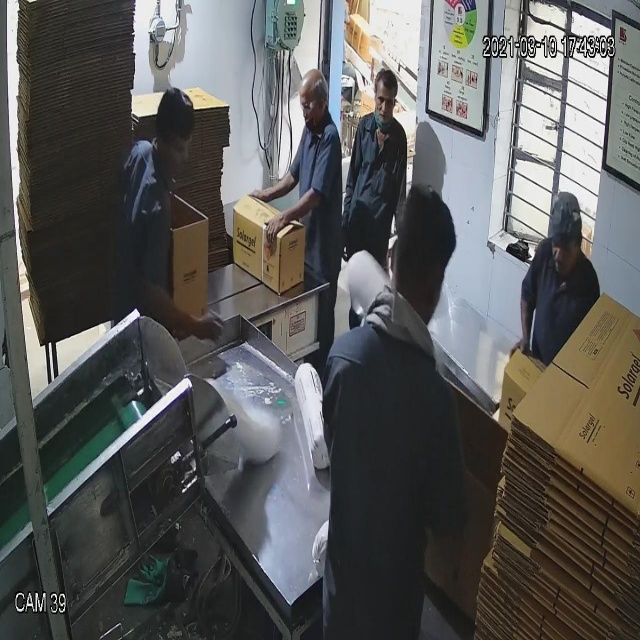Sin_guantes: (138, 271, 224, 350), (258, 189, 336, 246), (242, 160, 302, 213), (508, 278, 539, 366)
